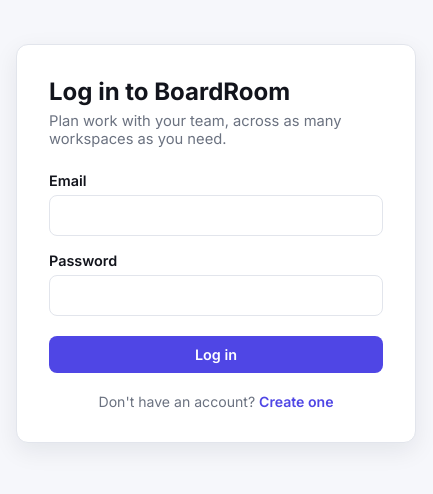
Test: LoginPage › shows the server's error message when login fails
This screenshot has width=433, height=494.
Type "person@example.com" into the field labelled "Email" at (216, 215), box [49,194,383,236]
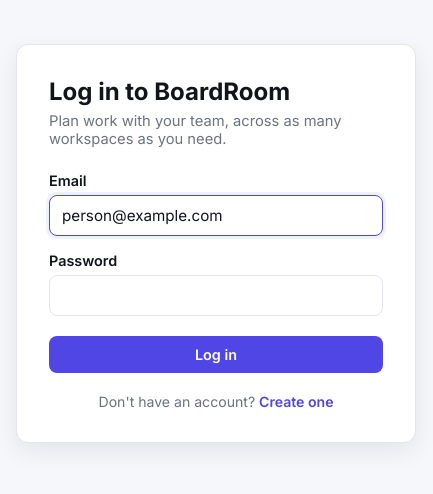
Type "WrongPassword!" into the password field labelled "Password" at (216, 295), box [49,274,383,316]
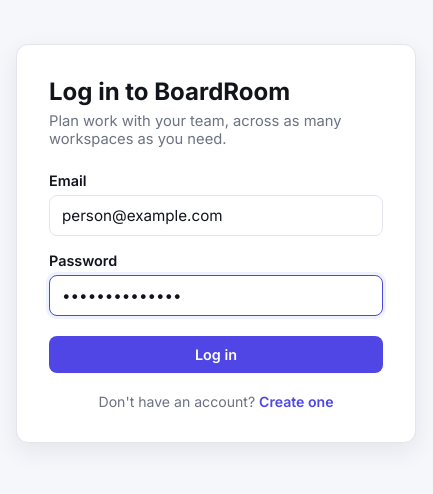
Click the button "Log in" at (216, 354), box [49,336,383,372]
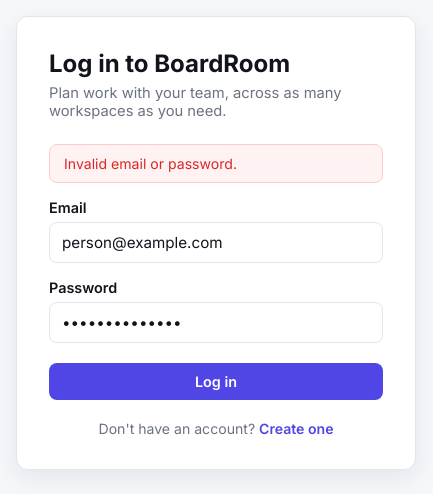
Check: the message reads "Invalid email or password.", box [64,155,237,172]
